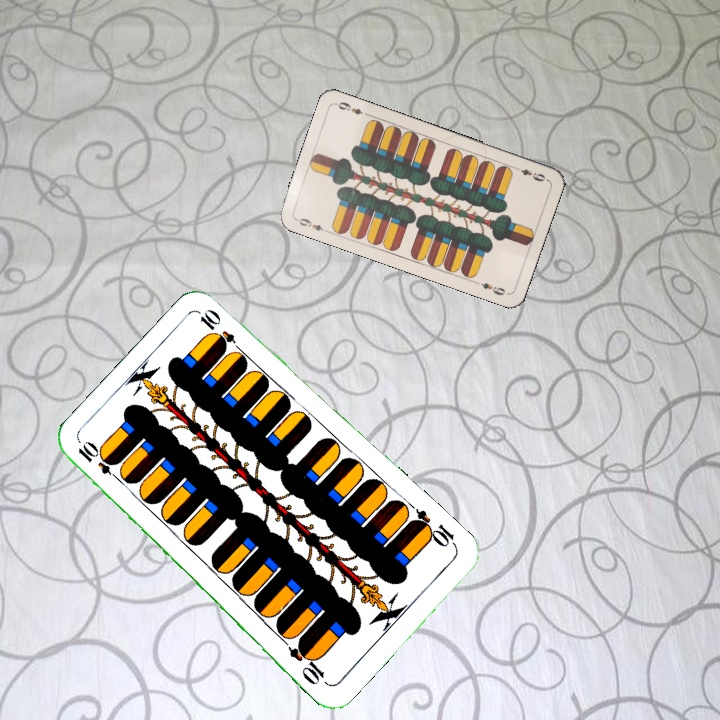E10: (406, 505, 460, 550), (74, 440, 125, 485)
E9: (292, 214, 331, 235), (510, 163, 548, 184)
